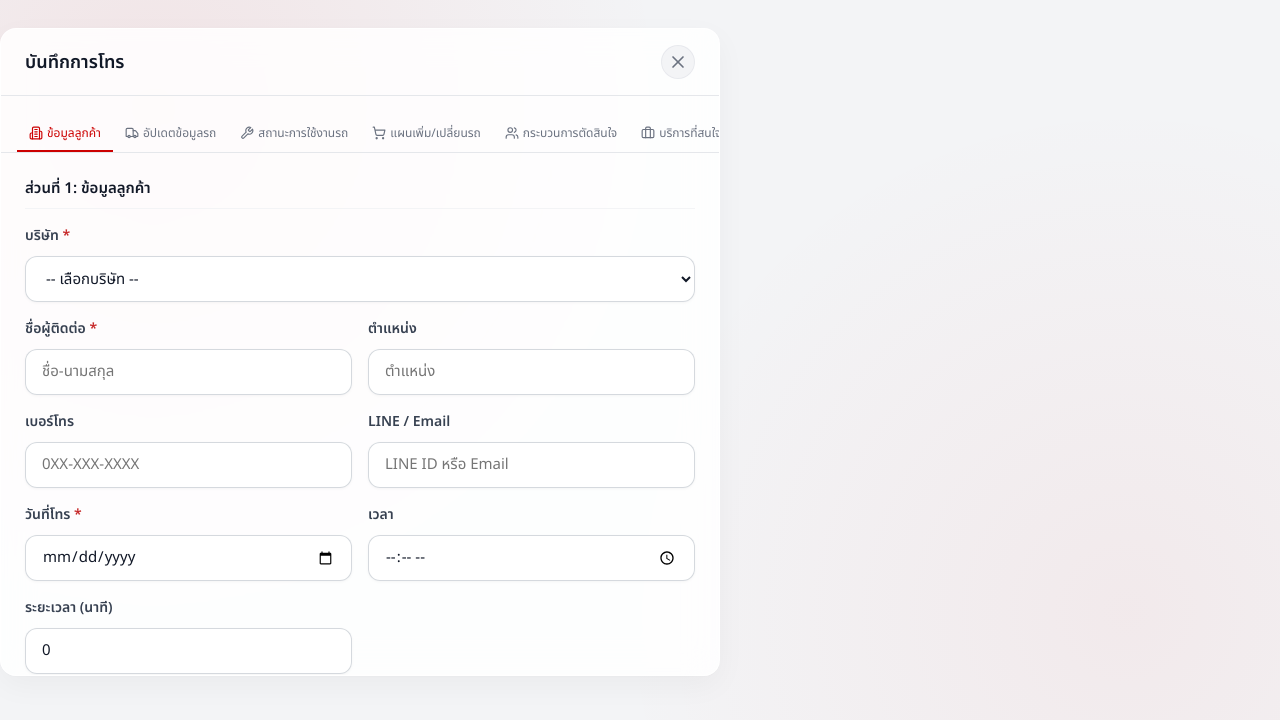
it: CallForm › auto-calculates fleet total
Click the button "อัปเดตข้อมูลรถ" at (171, 134), box [113,116,228,152]
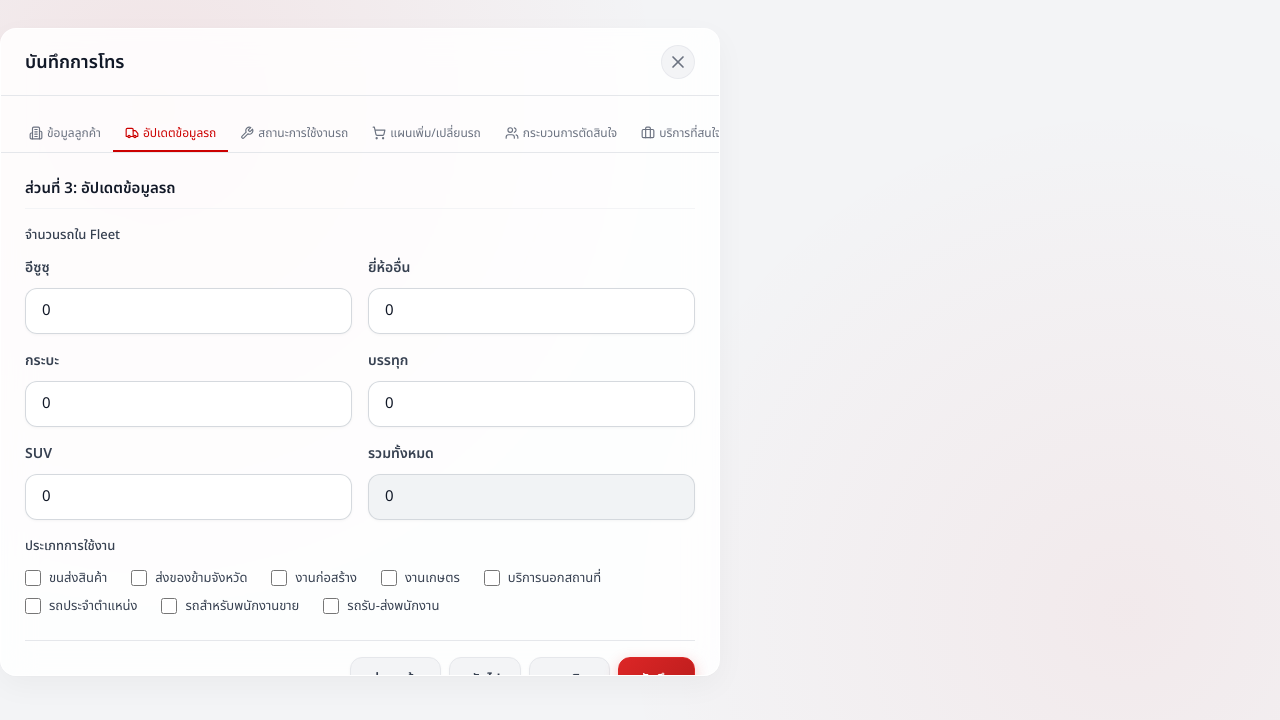
Replace the text in the number field labelled "อีซูซุ" with "5" at (188, 311), box [25,288,352,334]
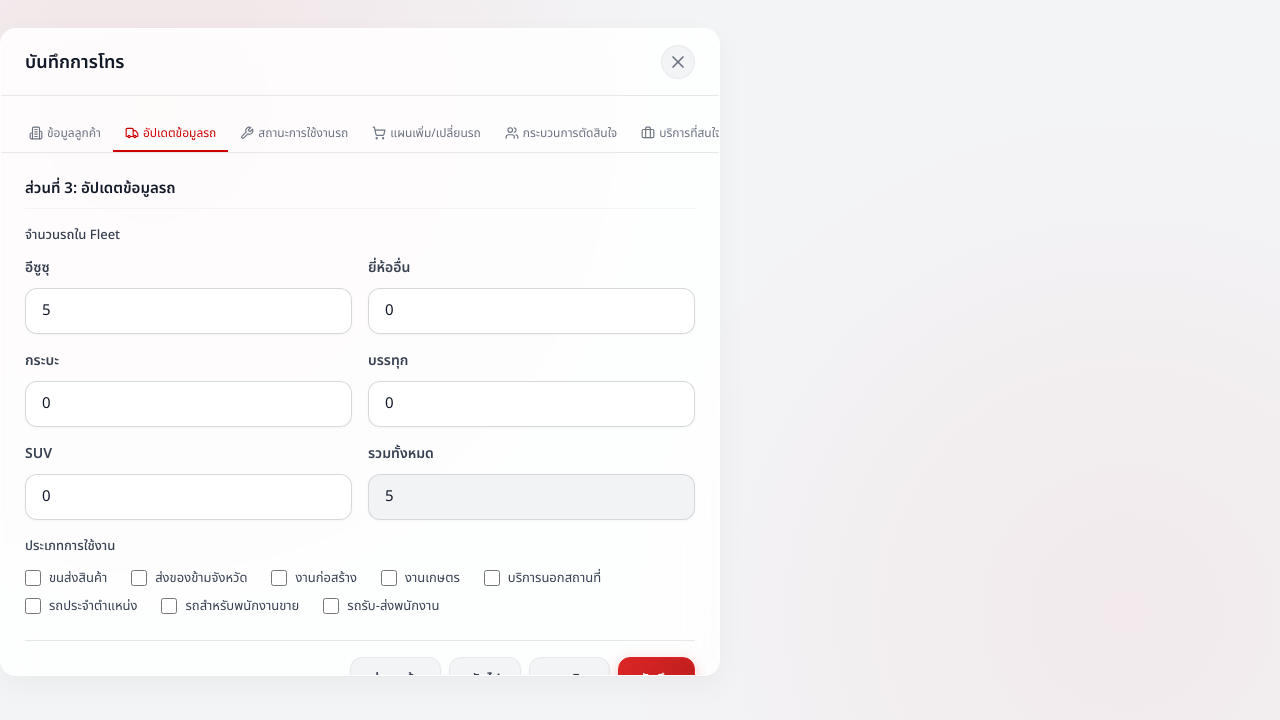
Replace the text in the number field labelled "ยี่ห้ออื่น" with "3" at (532, 311), box [368,288,695,334]
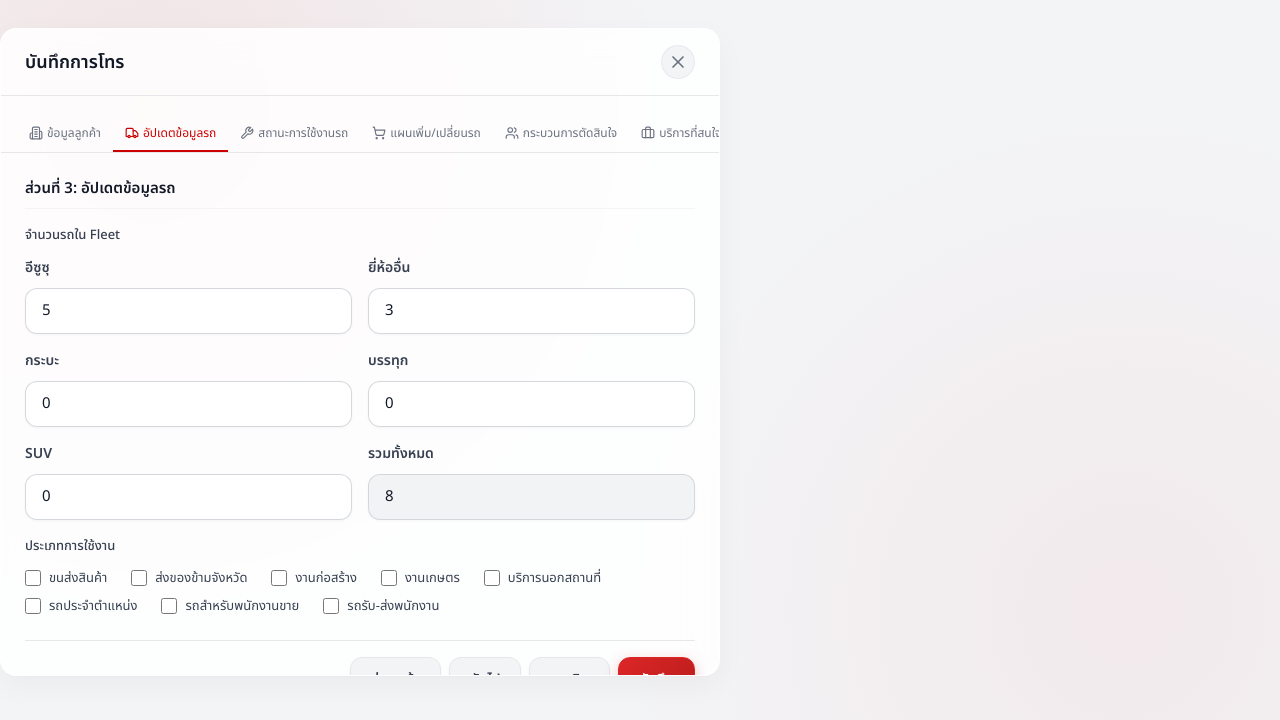
Expected: the number field labelled "รวมทั้งหมด" holds "8", [368,474,695,520]
